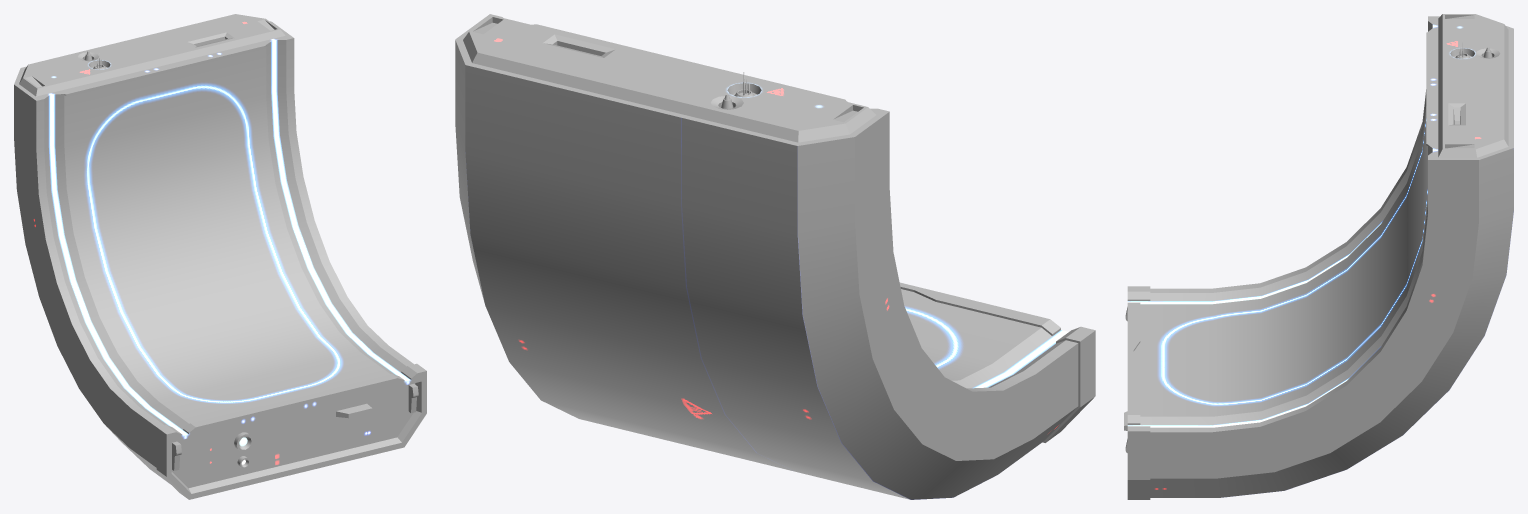
File: PitchUp_Caps.fbx
3 views of the same model, side by side, from view 1: azimuth 30°, elevation 25°; view 2: azimuth 150°, elevation 25°; view 3: azimuth 270°, elevation 25° (orthographic). The views are drawn at different scales.
Parts seen in each view (by area): view 1: PitchUp_Caps; view 2: PitchUp_Caps; view 3: PitchUp_Caps.
Boxes of the visible parts, x1,y1,x2,y2 form: PitchUp_Caps: [14, 14, 426, 499]; PitchUp_Caps: [455, 14, 1095, 499]; PitchUp_Caps: [1124, 14, 1513, 499].
Bounding box in the file's own units: 2.5 × 2.99 × 2.84.
